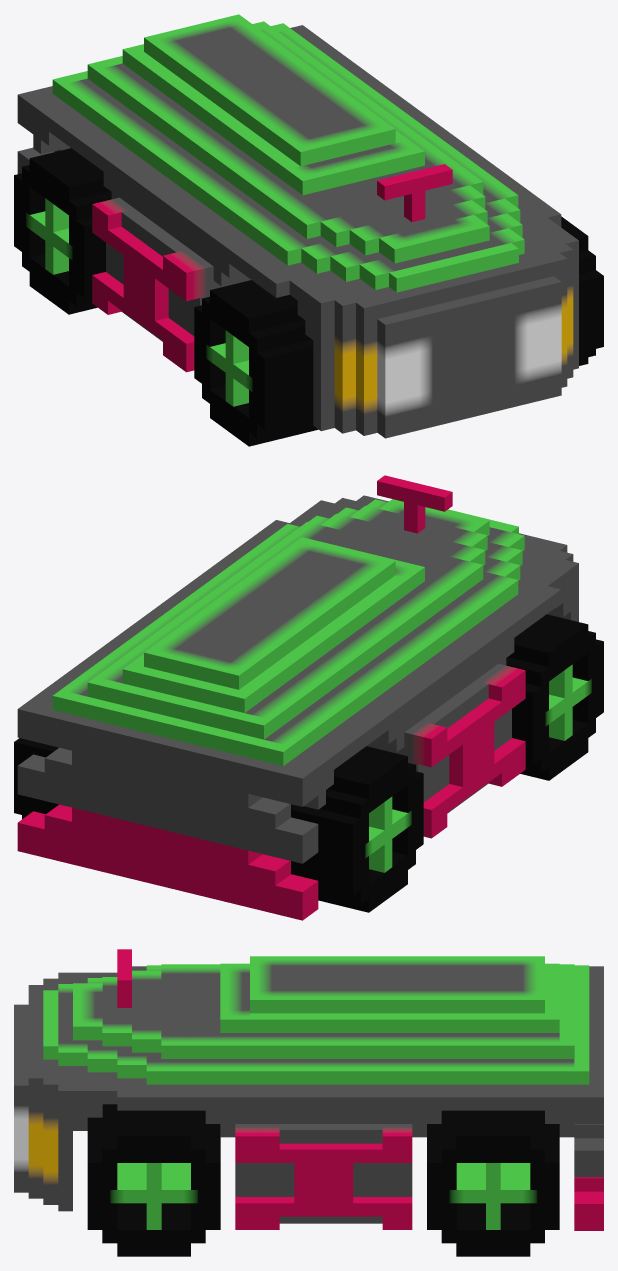
File: Car_41.fbx
3 renders of one model, top to bottom at view 1: azimuth 30°, elevation 25°; view 2: azimuth 150°, elevation 25°; view 3: azimuth 270°, elevation 25°, orthographic. The views are drawn at different scales.
Parts seen in each view (by area): view 1: Car_41; view 2: Car_41; view 3: Car_41.
Boxes of the visible parts, x1,y1,x2,y2 form: Car_41: (14, 14, 603, 446); Car_41: (14, 475, 603, 920); Car_41: (14, 949, 603, 1256).
Size of the model in its own units: 25 by 16 by 40.
Materials: 1 (1 with a texture image).
